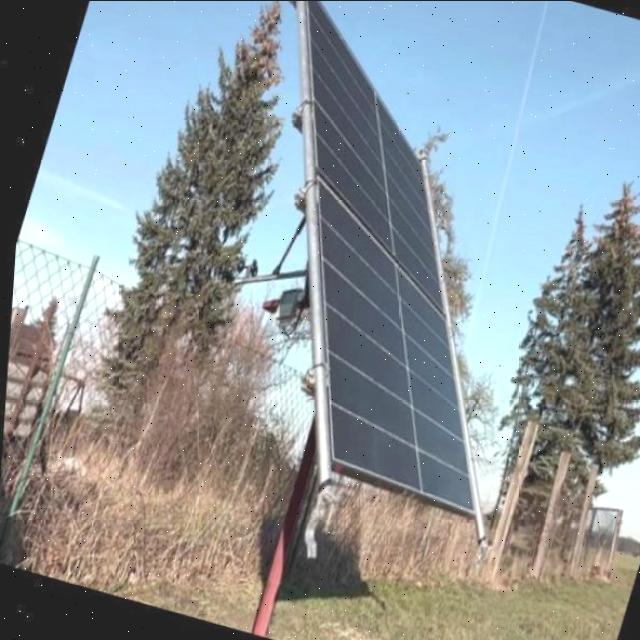Normal Solar Panel: (165, 0, 610, 526)
